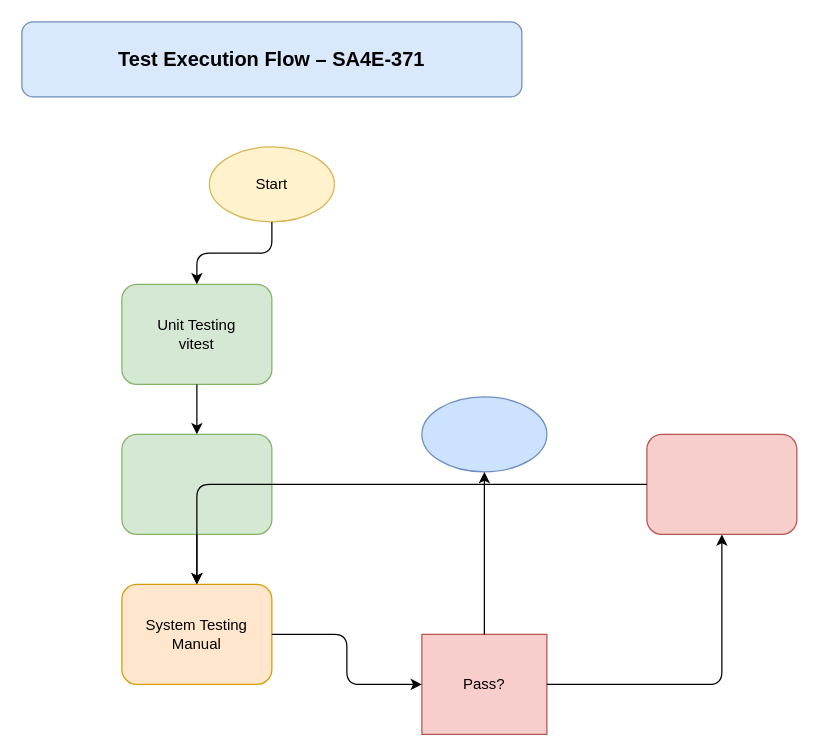
This 819x756 diagram has some shape labels left out. Here are the shapes that lost their labels. From the top down, the centre of each, then its label:
(484,434): End Report
(196,483): Integration Testing vitest
(721,483): Defect Fix → Retest
